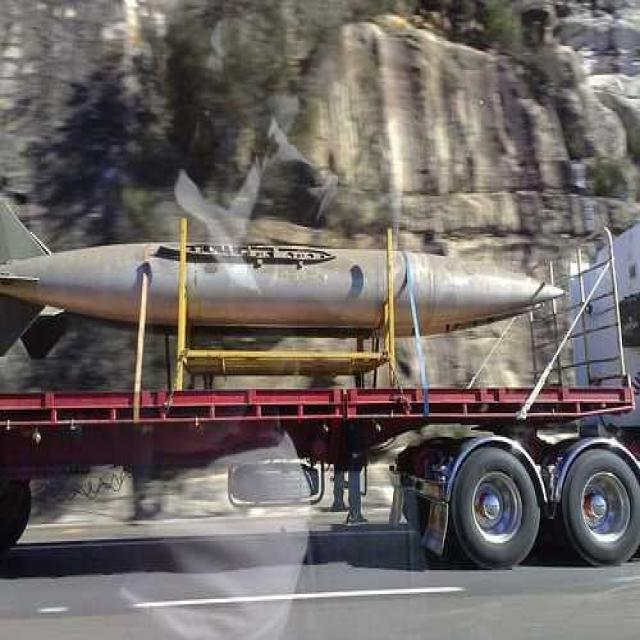missile: (3, 195, 570, 354)
